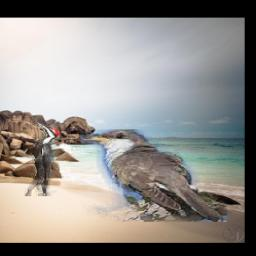Cuckoo: (81, 130, 228, 223)
Woodpecker: (25, 122, 60, 197)
